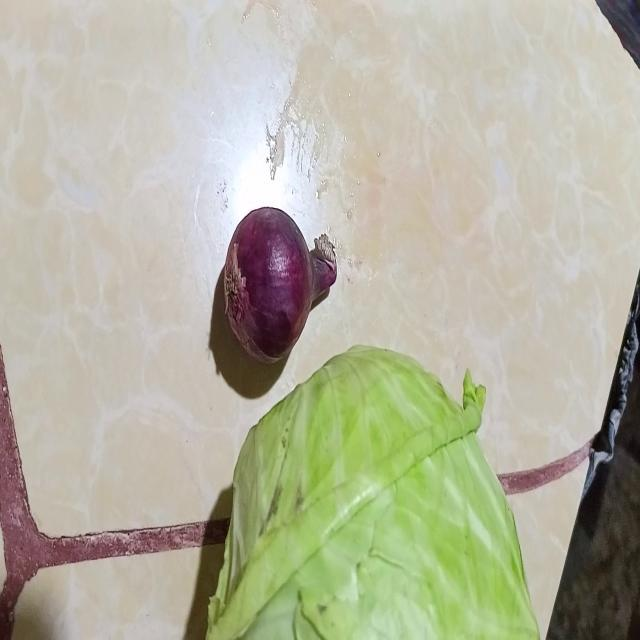cabbage: (199, 346, 537, 640)
onion: (227, 208, 337, 364)
